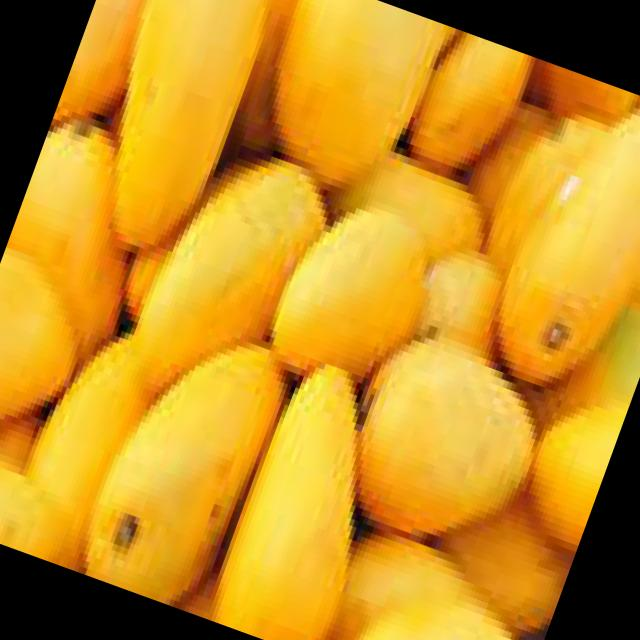mango: (85, 344, 284, 606), (213, 365, 357, 640), (499, 113, 640, 384), (113, 0, 267, 245), (359, 341, 535, 534), (0, 248, 76, 419)
